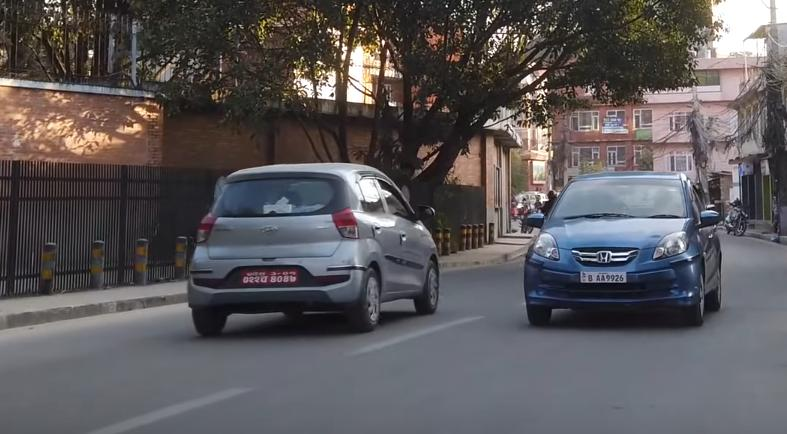bike: (724, 204, 751, 241)
car: (186, 160, 451, 339), (522, 161, 733, 332)
